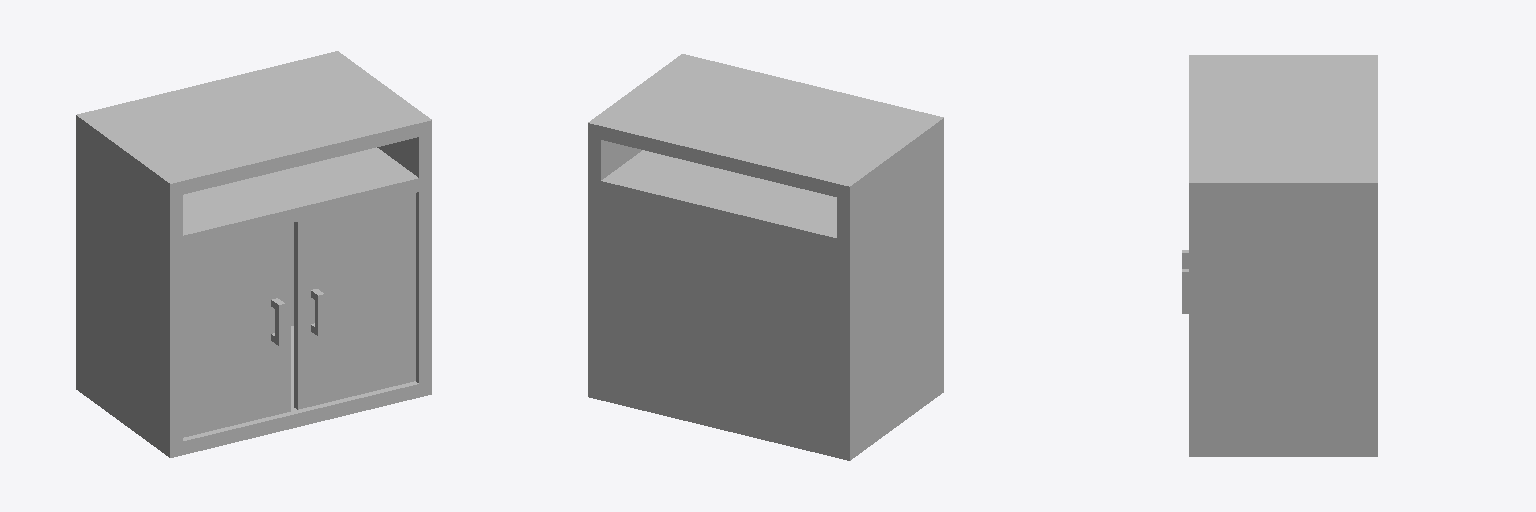
The model's file is nightstand.obj.
3 renders of one model, left to right at view 1: azimuth 30°, elevation 25°; view 2: azimuth 150°, elevation 25°; view 3: azimuth 270°, elevation 25°, orthographic.
Parts seen in each view (by area): view 1: object 1; view 2: object 1; view 3: object 1.
Part boxes in pixels (left/top/right/bottom): object 1: left=76, top=51, right=431, bottom=457; object 1: left=588, top=54, right=943, bottom=460; object 1: left=1182, top=55, right=1377, bottom=456.
Bounding box in the file's own units: 4 × 4 × 2.6.